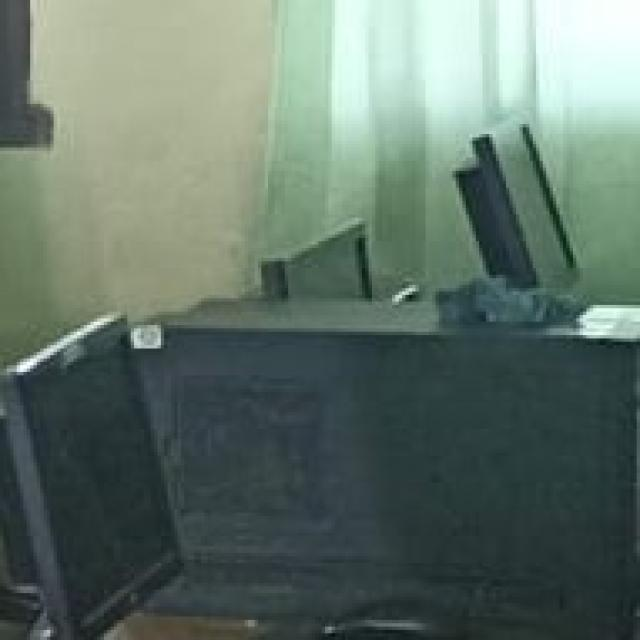offscreen: (0, 316, 179, 622), (456, 121, 589, 324)
